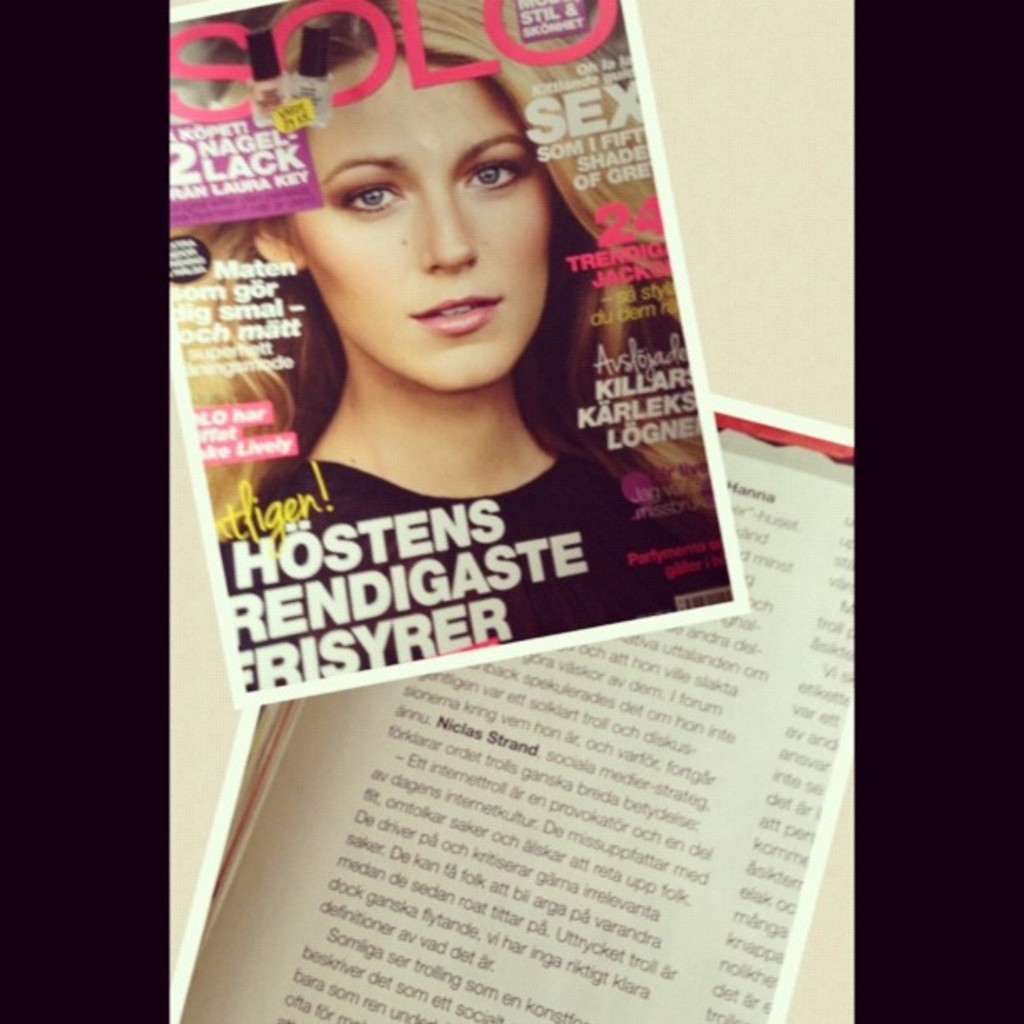Human-face: (298, 47, 556, 400)
